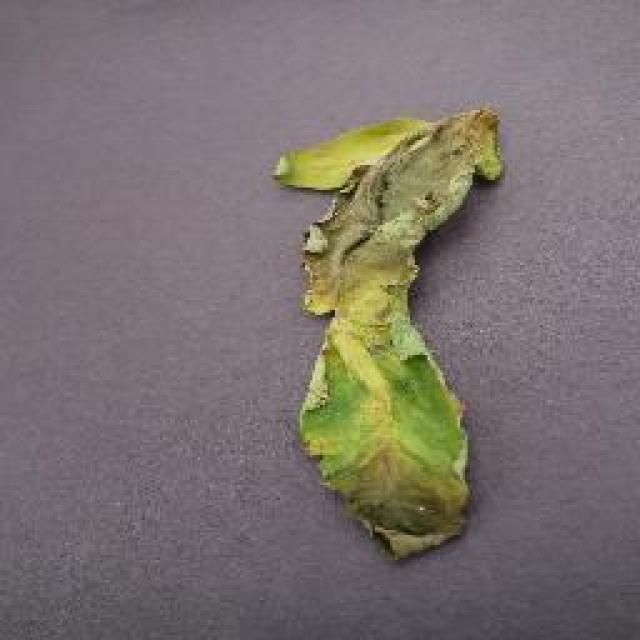Tomato late blight leaf: (282, 103, 512, 555)
